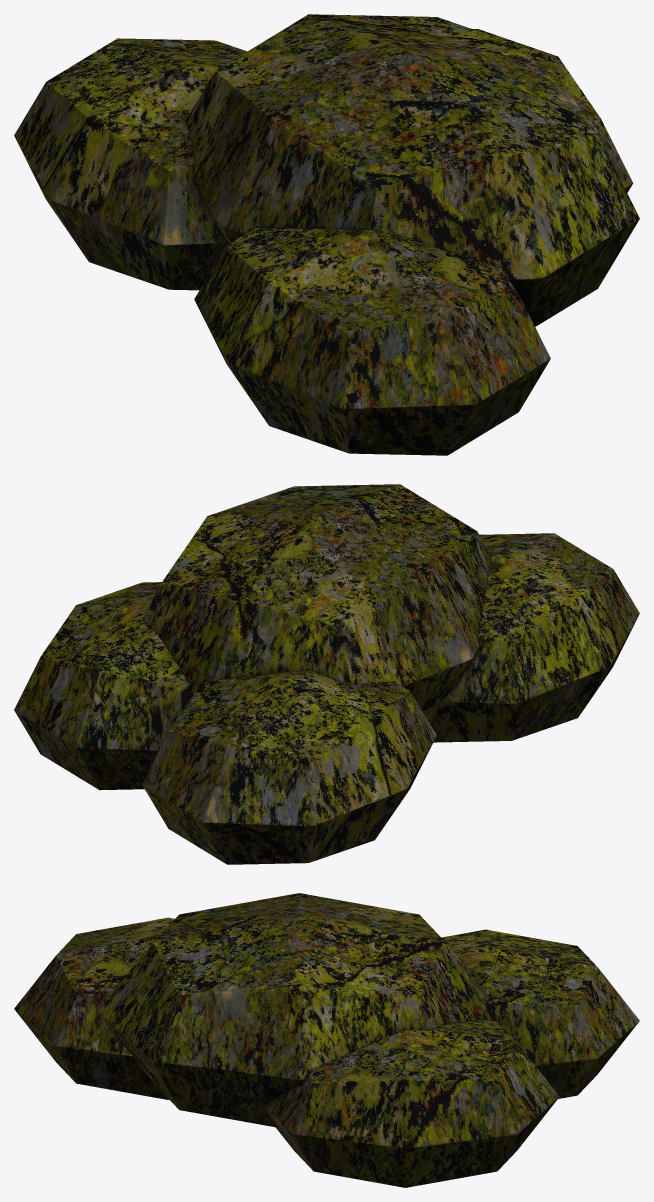
File: rock1.glb
3 views of the same model, one above another, from view 1: azimuth 30°, elevation 25°; view 2: azimuth 150°, elevation 25°; view 3: azimuth 270°, elevation 25° (orthographic). The views are drawn at different scales.
Parts seen in each view (by area): view 1: Cube; view 2: Cube; view 3: Cube.
Part boxes in pixels (x1,y1,x2,y2): Cube: [14, 14, 639, 455]; Cube: [14, 484, 639, 864]; Cube: [14, 893, 639, 1187].
Bounding box in the file's own units: 11.47 × 5.9 × 15.84.
Materials: 1 (1 with a texture image).
